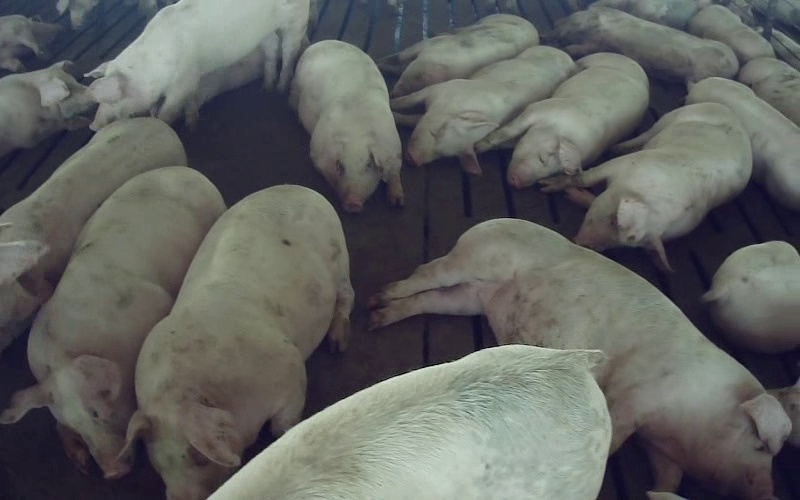pig: (372, 219, 790, 499), (127, 185, 353, 499), (0, 166, 224, 477), (210, 345, 610, 499), (0, 118, 186, 350), (541, 103, 750, 270), (390, 46, 575, 173), (476, 53, 648, 187), (289, 40, 402, 211), (686, 77, 799, 210), (556, 7, 738, 83), (378, 14, 537, 96), (703, 241, 799, 352), (0, 61, 95, 157), (688, 5, 774, 64), (738, 57, 799, 125)
